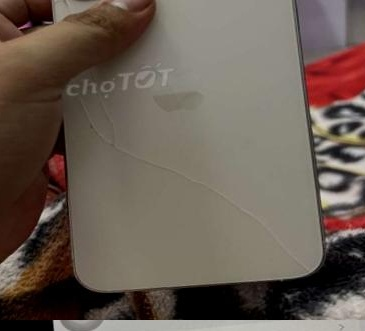physical_damage: (44, 0, 321, 296)
